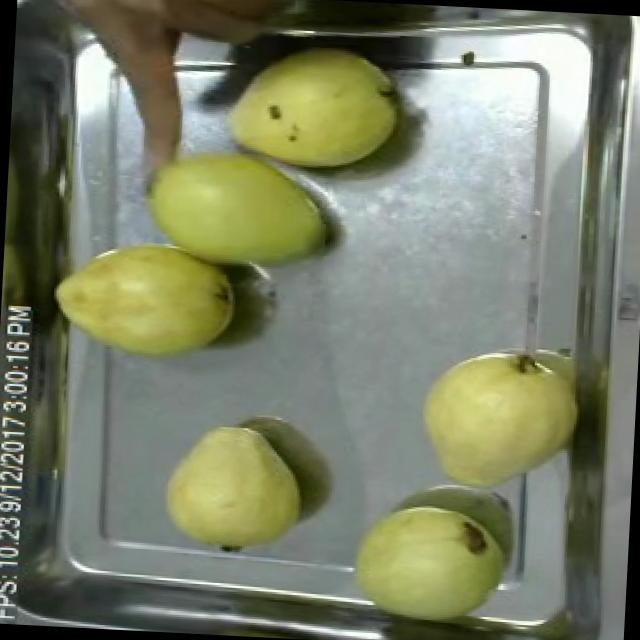Fruit: (124, 120, 342, 289), (31, 0, 326, 111), (208, 30, 410, 190), (403, 333, 589, 502), (42, 226, 245, 372), (335, 487, 517, 640), (152, 414, 314, 564)
